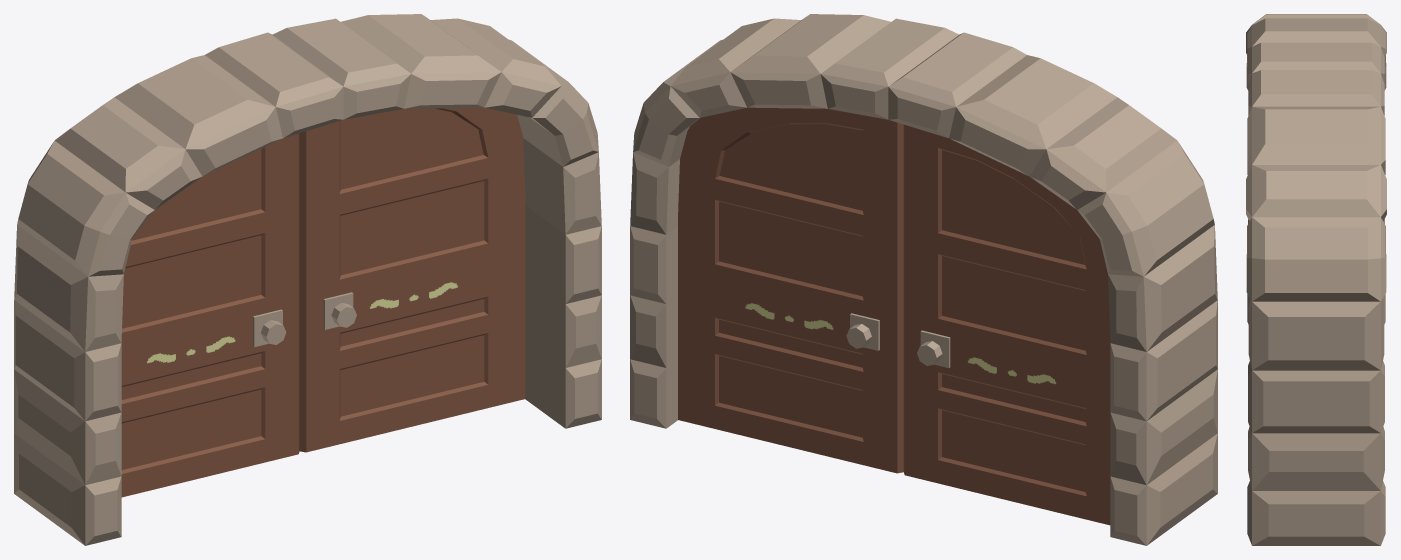
File: DoubleDoor.fbx
3 renders of one model, left to right at view 1: azimuth 30°, elevation 25°; view 2: azimuth 150°, elevation 25°; view 3: azimuth 270°, elevation 25°, orthographic. The views are drawn at different scales.
Visible parts, largest first — view 1: DoubleDoorStoneArc, RightDoor, LeftDoorPiece2, LeftDoorPiece3, LeftDoorPiece1; view 2: DoubleDoorStoneArc, RightDoor, LeftDoorPiece3, LeftDoorPiece1, LeftDoorPiece2; view 3: DoubleDoorStoneArc.
Boxes of the visible parts, left/top/right/bottom form: DoubleDoorStoneArc: left=14, top=14, right=601, bottom=545; RightDoor: left=299, top=107, right=525, bottom=452; LeftDoorPiece2: left=156, top=209, right=299, bottom=463; LeftDoorPiece3: left=121, top=275, right=260, bottom=497; LeftDoorPiece1: left=123, top=133, right=299, bottom=289; DoubleDoorStoneArc: left=630, top=14, right=1217, bottom=545; RightDoor: left=678, top=107, right=903, bottom=473; LeftDoorPiece3: left=942, top=296, right=1110, bottom=525; LeftDoorPiece1: left=903, top=124, right=1109, bottom=325; LeftDoorPiece2: left=903, top=229, right=1046, bottom=484; DoubleDoorStoneArc: left=1246, top=14, right=1386, bottom=545.
Bounding box in the file's own units: 4268 × 3119 × 1088.
